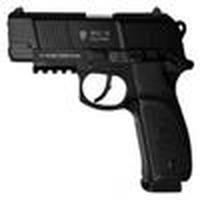gun: (4, 4, 191, 198)
